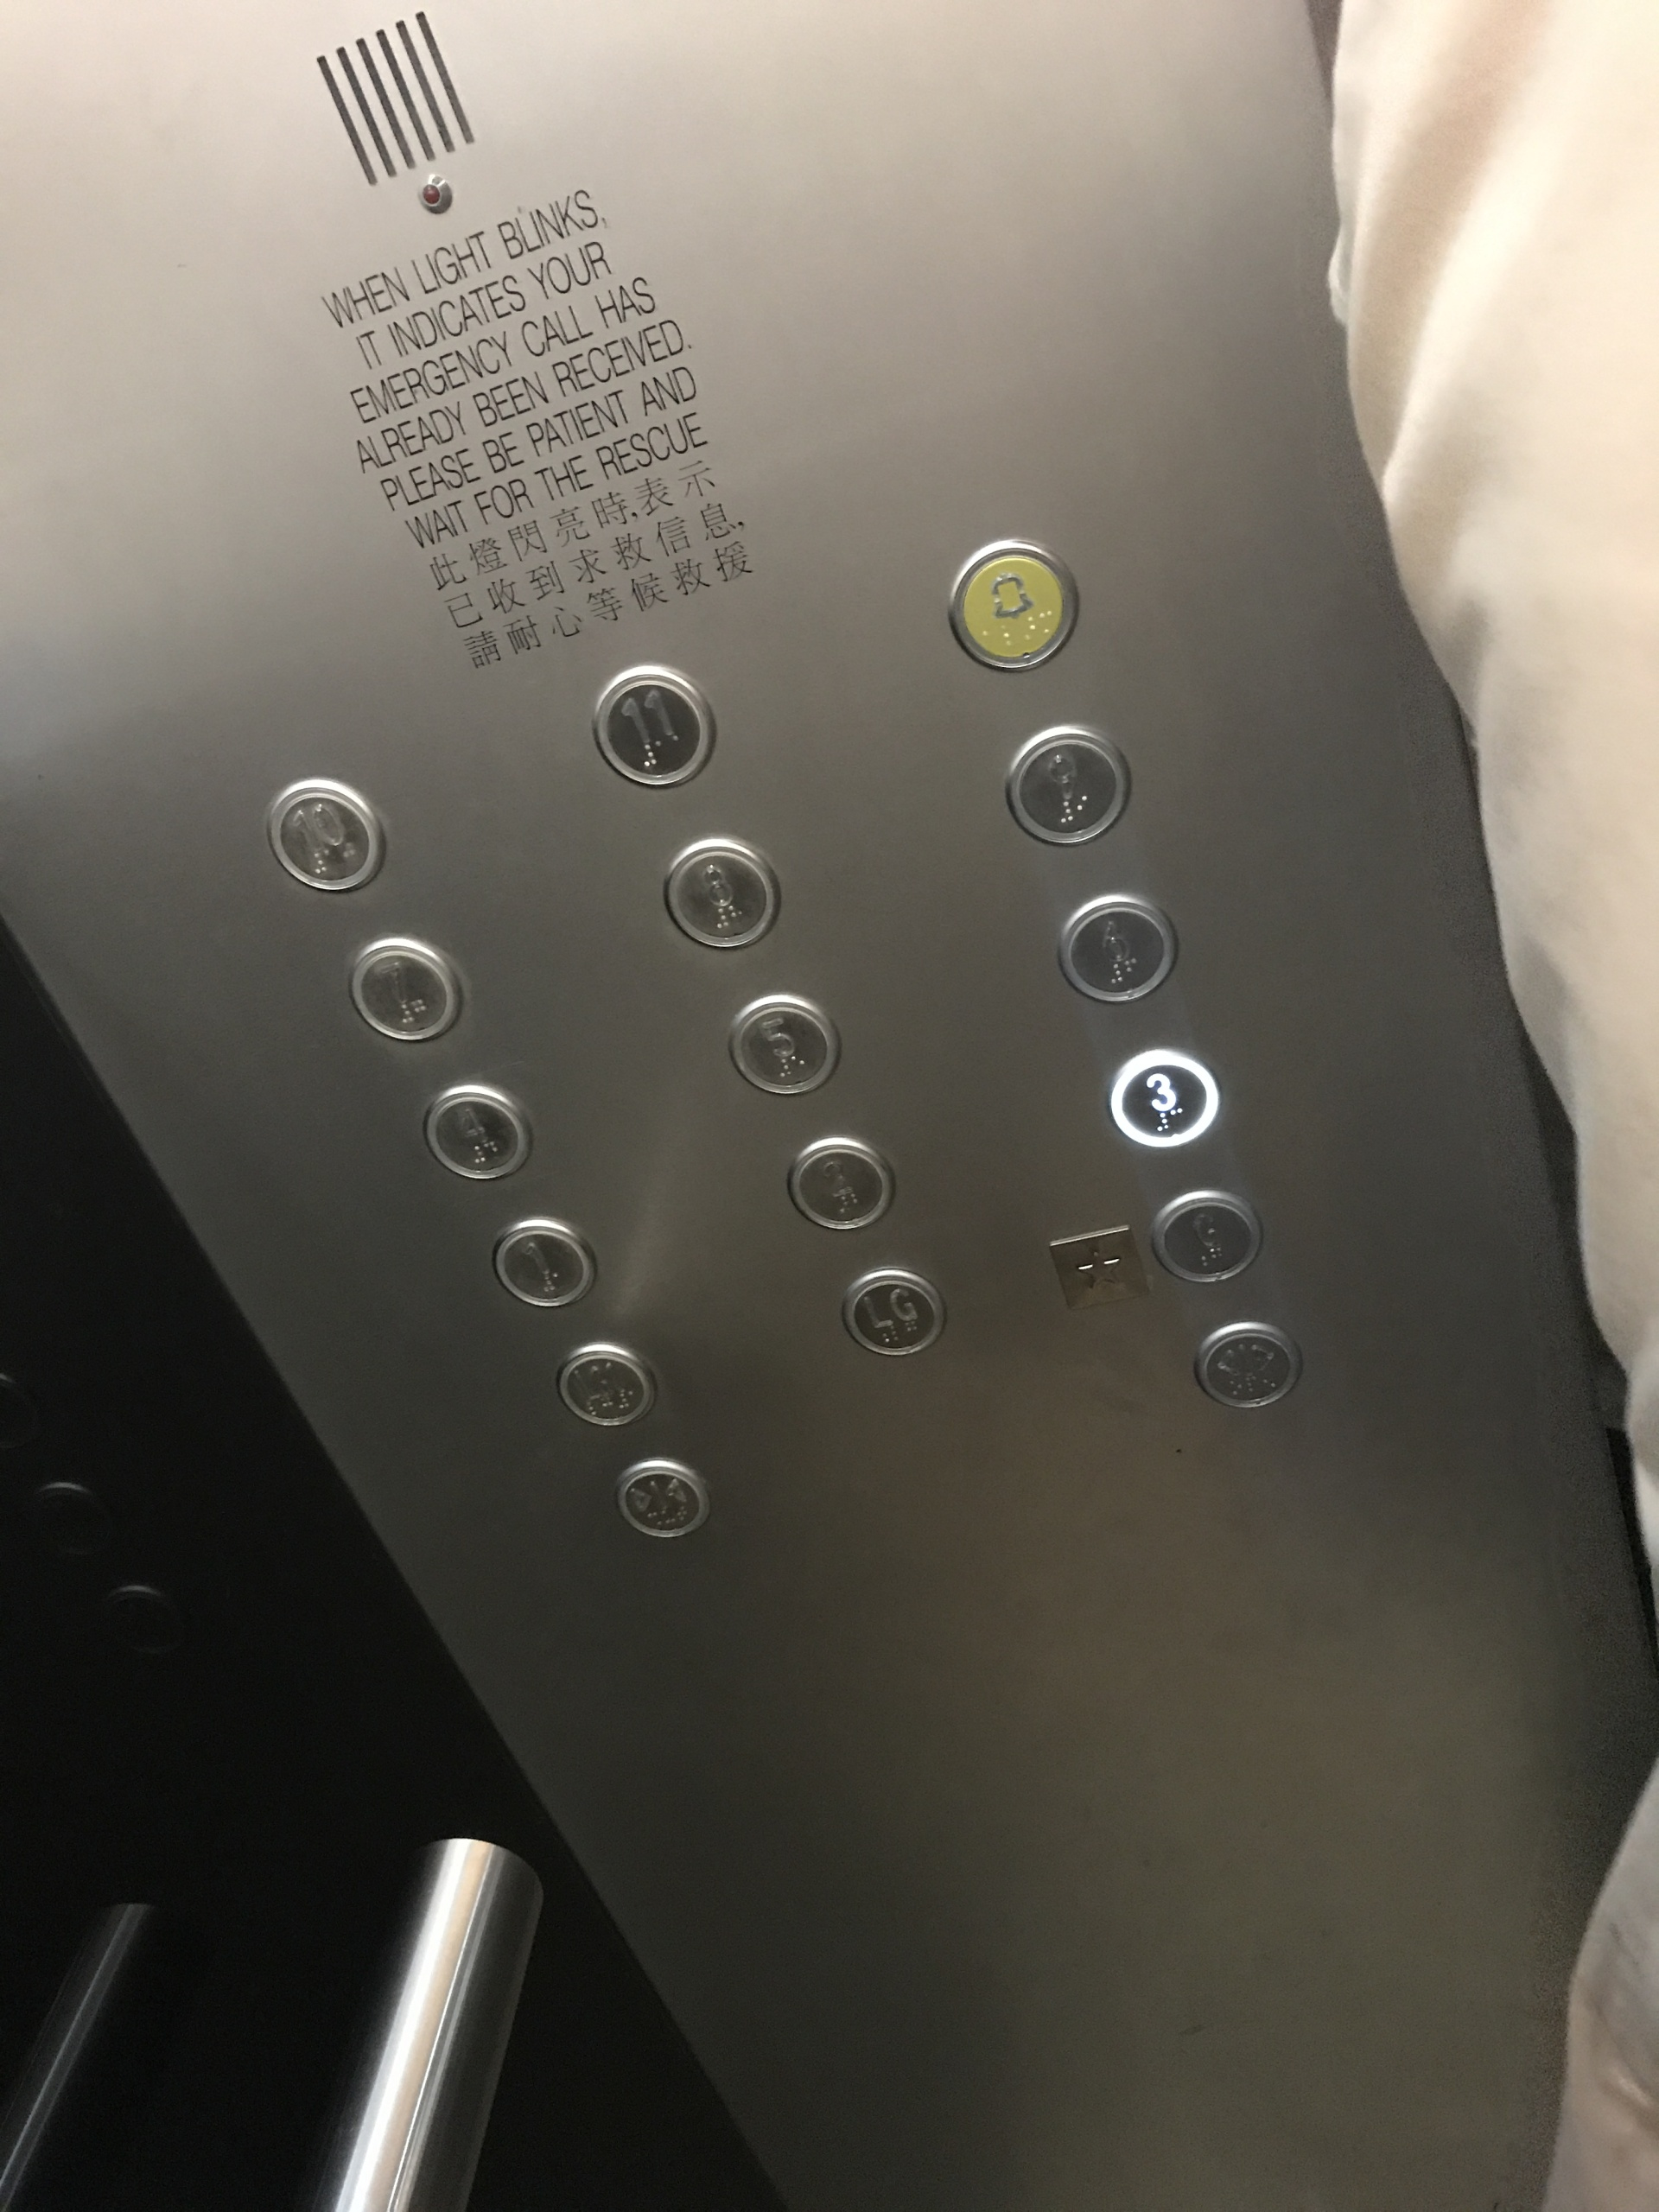1: (491, 1216, 596, 1310)
10: (261, 777, 389, 894)
11: (587, 662, 718, 791)
2: (784, 1134, 894, 1237)
3: (1107, 1043, 1222, 1150)
4: (420, 1082, 532, 1181)
5: (725, 991, 840, 1101)
6: (1049, 888, 1176, 1003)
7: (345, 934, 464, 1043)
8: (660, 836, 779, 949)
9: (999, 719, 1133, 850)
G: (1150, 1184, 1265, 1289)
LG: (835, 1264, 946, 1362)
LG1: (552, 1341, 650, 1428)
alarm: (943, 533, 1080, 674)
close: (610, 1453, 713, 1543)
open: (1190, 1315, 1303, 1413)
